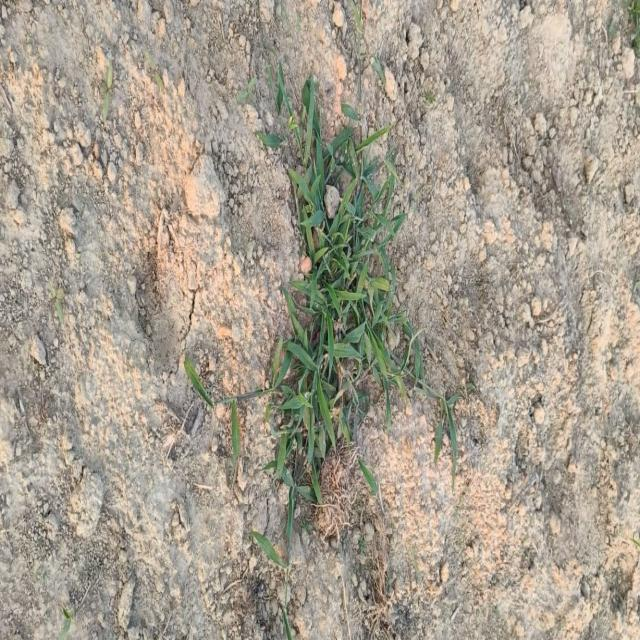weed: (220, 73, 464, 580), (269, 68, 438, 574), (269, 73, 425, 580), (184, 358, 215, 408), (359, 459, 380, 495), (361, 461, 377, 493)
